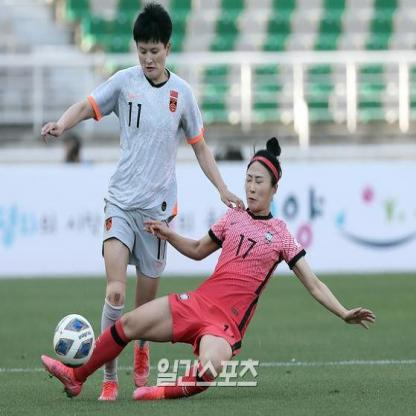Fall_Down: (41, 144, 379, 401)
